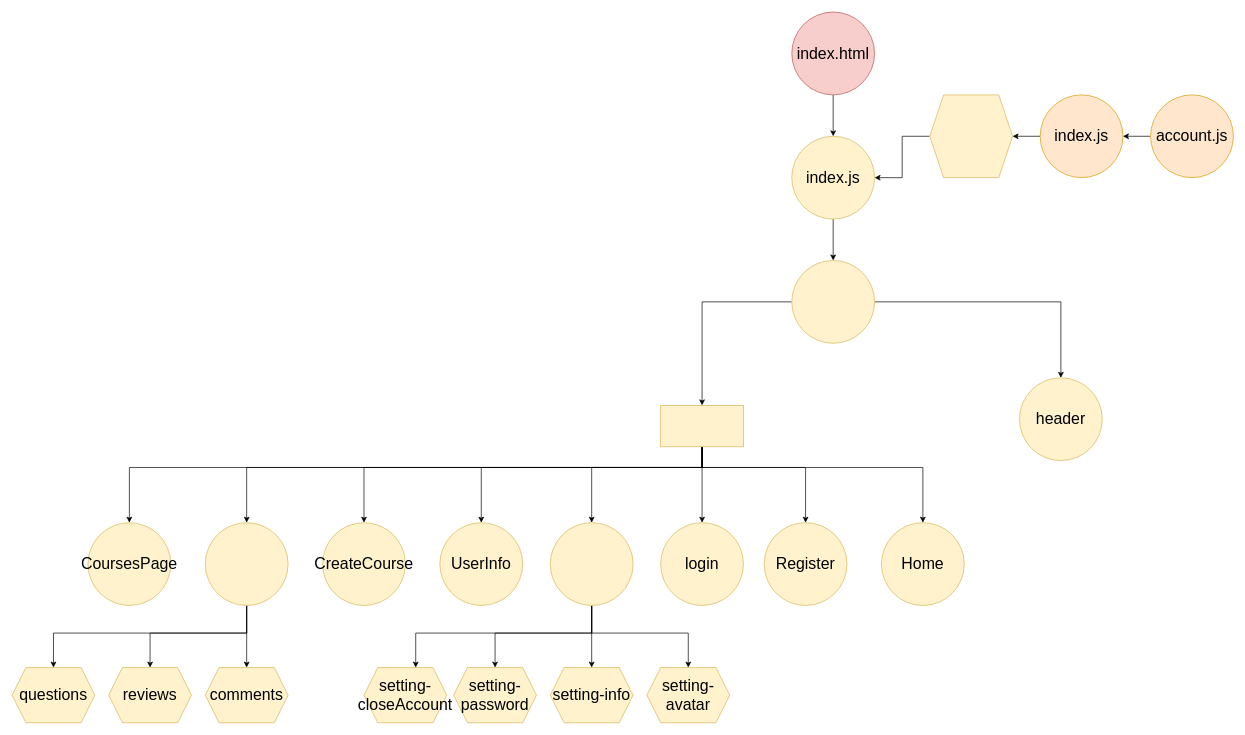
This 1245x735 diagram has some shape labels left out. Each missing label, with the box of its shape:
app.js: (791, 260, 875, 343)
Course: (205, 522, 288, 605)
pages: (660, 405, 743, 447)
reducers: (929, 94, 1013, 178)
Setting: (550, 522, 633, 605)
